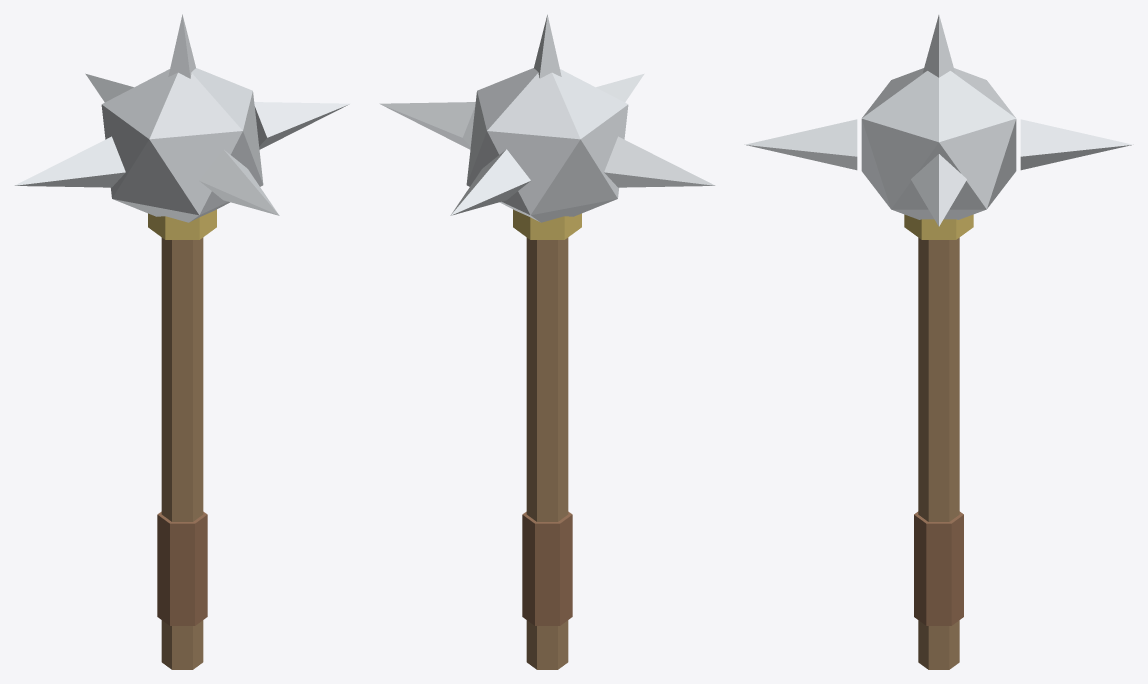
The model's file is mace.glb.
3 views of the same model, side by side, from view 1: azimuth 30°, elevation 25°; view 2: azimuth 150°, elevation 25°; view 3: azimuth 270°, elevation 25° (orthographic).
Parts seen in each view (by area): view 1: mace_head, mace_haft, mace_grip, mace_spike_1, mace_spike_3, mace_spike_0, mace_collar, mace_spike_4, mace_spike_2; view 2: mace_head, mace_haft, mace_grip, mace_spike_1, mace_spike_2, mace_spike_0, mace_collar, mace_spike_4, mace_spike_3; view 3: mace_head, mace_haft, mace_grip, mace_spike_2, mace_spike_3, mace_spike_0, mace_collar, mace_spike_4.
Boxes of the visible parts, x1=… form: mace_head: x1=101, y1=68, x2=263, y2=222; mace_haft: x1=161, y1=237, x2=203, y2=669; mace_grip: x1=157, y1=511, x2=207, y2=625; mace_spike_1: x1=14, y1=136, x2=125, y2=187; mace_spike_3: x1=199, y1=149, x2=279, y2=215; mace_spike_0: x1=254, y1=102, x2=350, y2=149; mace_collar: x1=148, y1=209, x2=216, y2=239; mace_spike_4: x1=168, y1=14, x2=195, y2=78; mace_spike_2: x1=85, y1=73, x2=133, y2=102; mace_head: x1=466, y1=68, x2=628, y2=222; mace_haft: x1=526, y1=237, x2=568, y2=669; mace_grip: x1=522, y1=511, x2=572, y2=625; mace_spike_1: x1=604, y1=136, x2=715, y2=187; mace_spike_2: x1=450, y1=149, x2=530, y2=215; mace_spike_0: x1=379, y1=102, x2=475, y2=149; mace_collar: x1=513, y1=209, x2=581, y2=239; mace_spike_4: x1=534, y1=14, x2=561, y2=78; mace_spike_3: x1=596, y1=73, x2=644, y2=102; mace_head: x1=861, y1=68, x2=1016, y2=219; mace_haft: x1=918, y1=237, x2=959, y2=669; mace_grip: x1=914, y1=511, x2=963, y2=625; mace_spike_2: x1=1020, y1=119, x2=1133, y2=170; mace_spike_3: x1=744, y1=119, x2=857, y2=170; mace_spike_0: x1=911, y1=154, x2=966, y2=226; mace_collar: x1=904, y1=214, x2=973, y2=239; mace_spike_4: x1=923, y1=15, x2=954, y2=77.
Bounding box in the file's own units: 0.62 × 1.14 × 0.62.
